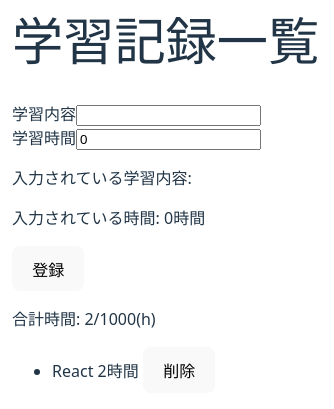
Test: Record Delete Test › 削除ボタンを押すと学習記録が1件減る
Expected: the number of list items is 1, x1=52 y1=348 x2=215 y2=393
Click the button "削除" at coordinates (179, 370), box x1=143 y1=348 x2=215 y2=393
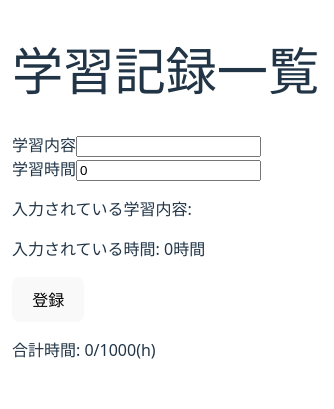
Now no list items are shown
